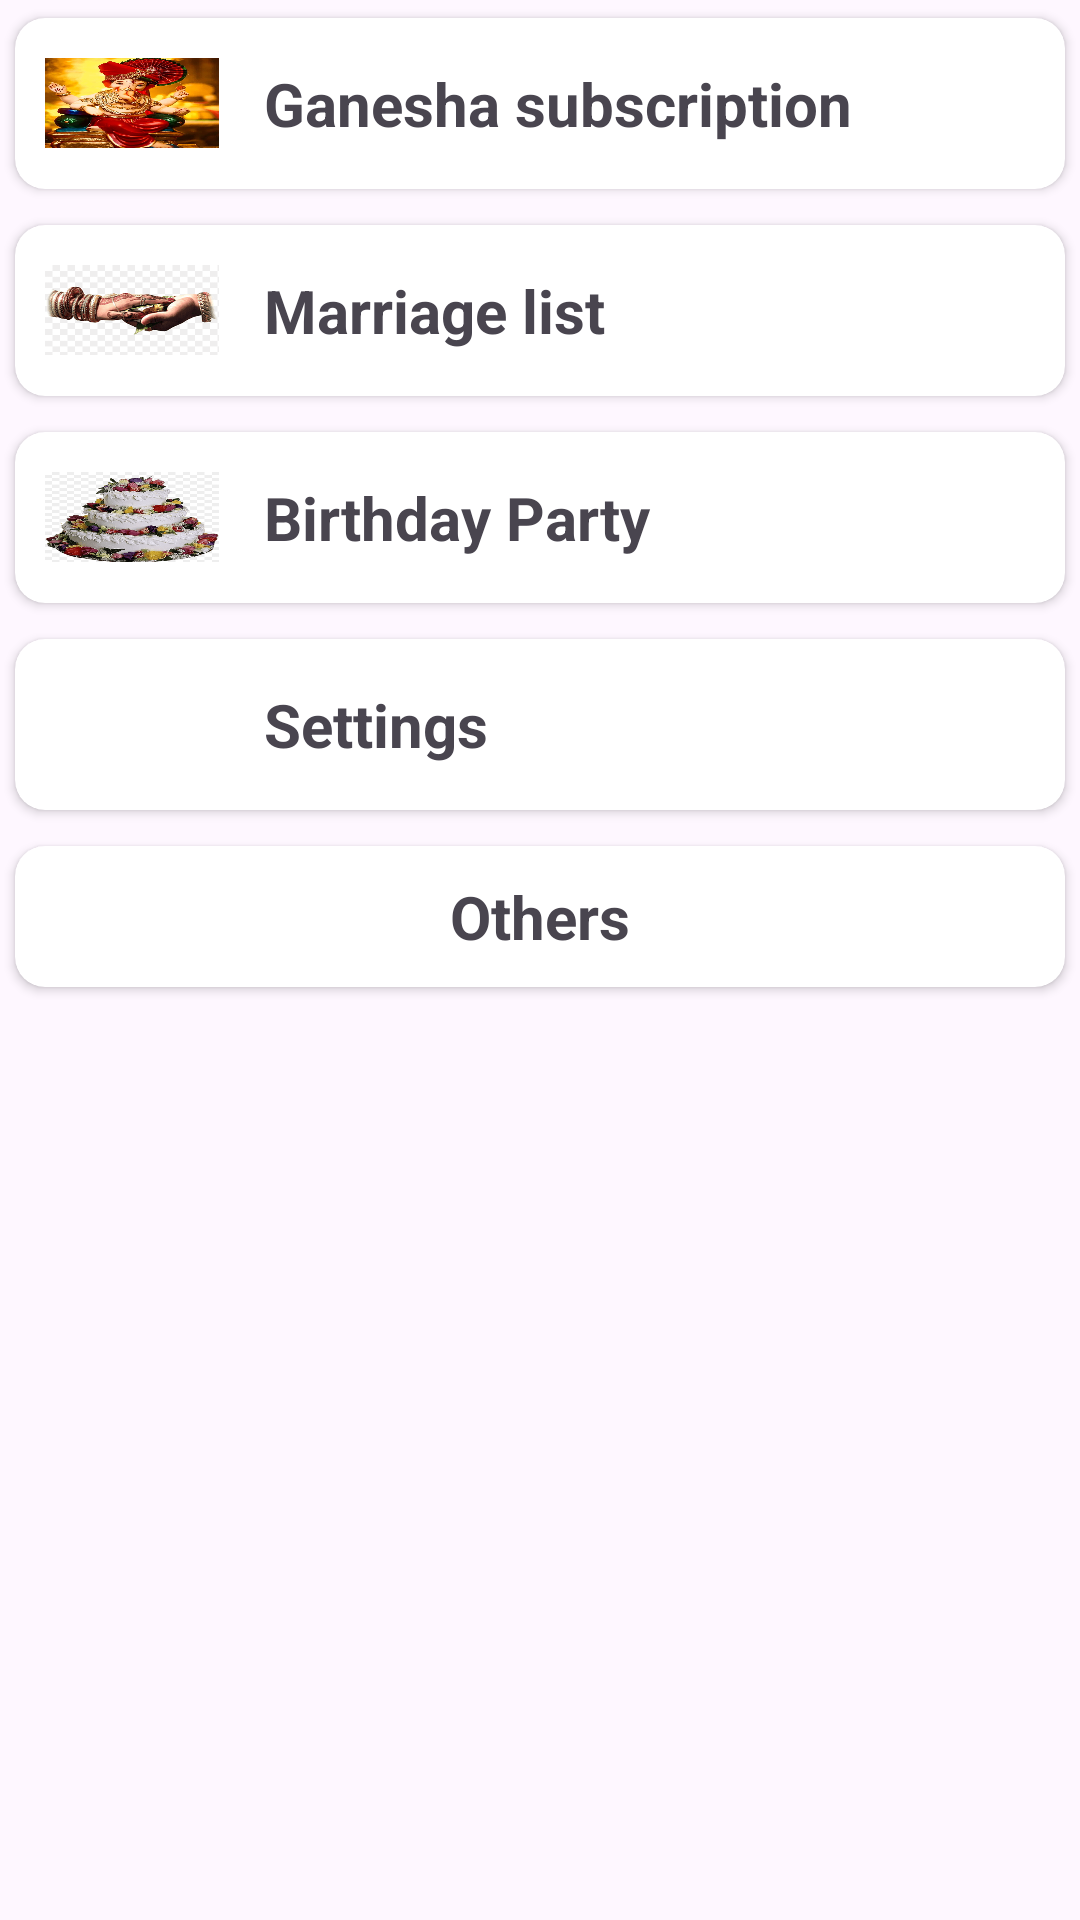

Screen size 1080w x 1920h. Icon name, then its box in pixels as (x1, y1, x2, y2):
birthday themes: (46, 475, 219, 562)
merriege themes: (47, 286, 217, 335)
